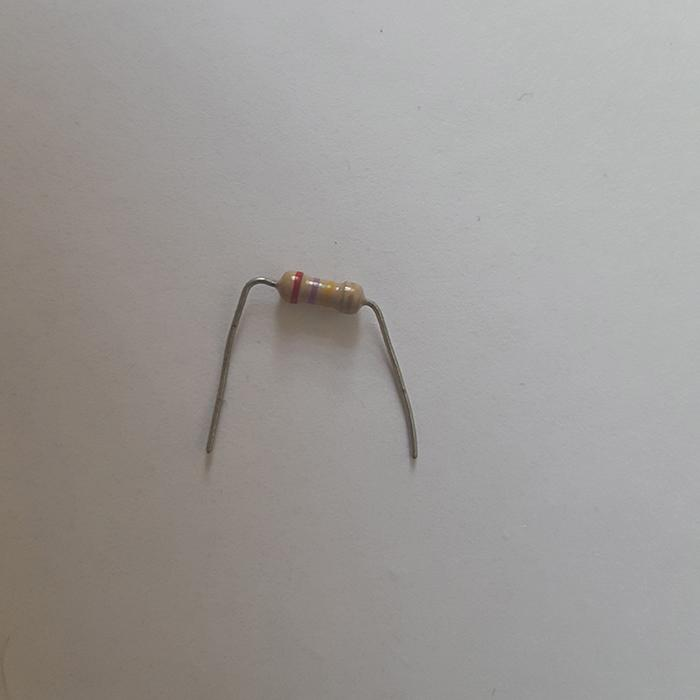resistor: (276, 270, 364, 313)
